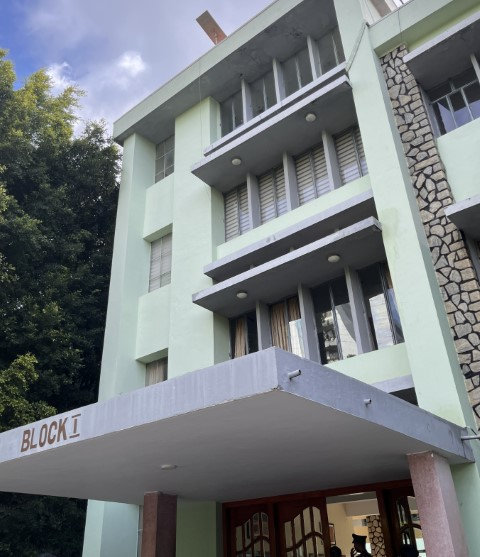Block 1: (1, 1, 475, 550)
